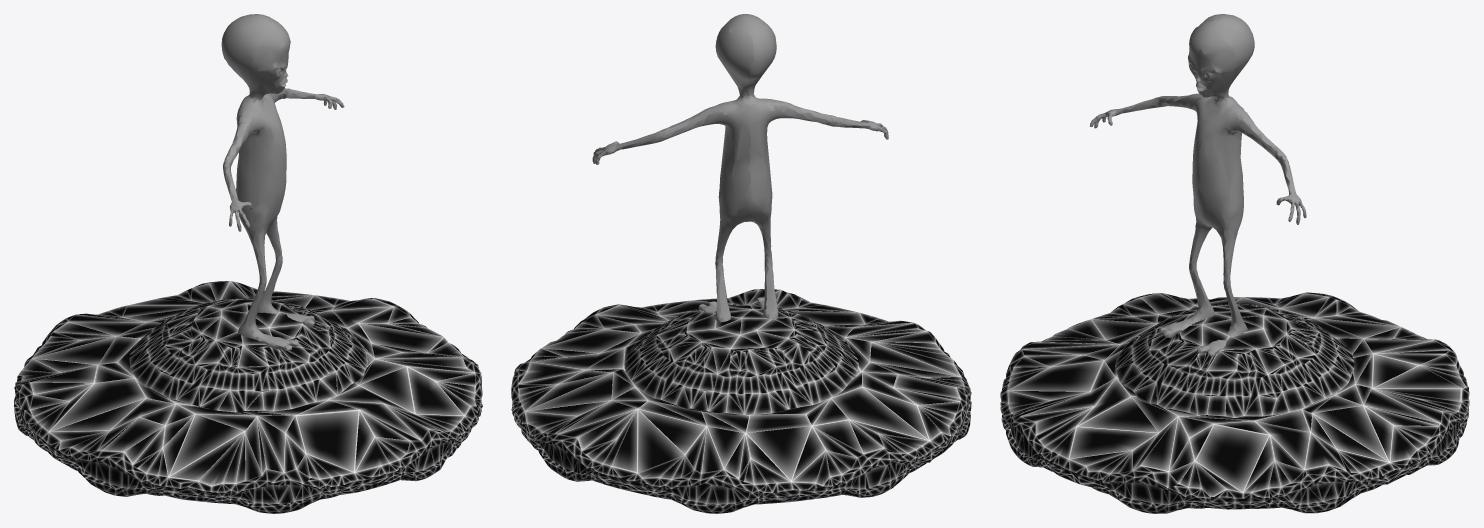
The model's file is frame_088.obj.
The picture shows the model from 3 angles, left to right: view 1: azimuth 30°, elevation 25°; view 2: azimuth 150°, elevation 25°; view 3: azimuth 270°, elevation 25°; orthographic projection. The views are drawn at different scales.
Visible parts, largest first — view 1: 13884_UFO_Saucer_v1_l2, 10469_GrayAlien_v01; view 2: 13884_UFO_Saucer_v1_l2, 10469_GrayAlien_v01; view 3: 13884_UFO_Saucer_v1_l2, 10469_GrayAlien_v01.
Boxes of the visible parts, box(x1,y1,x2,y2) form: 13884_UFO_Saucer_v1_l2: box(14, 281, 482, 513); 10469_GrayAlien_v01: box(221, 14, 344, 350); 13884_UFO_Saucer_v1_l2: box(511, 289, 971, 513); 10469_GrayAlien_v01: box(592, 14, 888, 322); 13884_UFO_Saucer_v1_l2: box(1000, 292, 1469, 513); 10469_GrayAlien_v01: box(1090, 14, 1306, 356).
Size of the model in its own units: 12.69 by 13.9 by 12.7.
